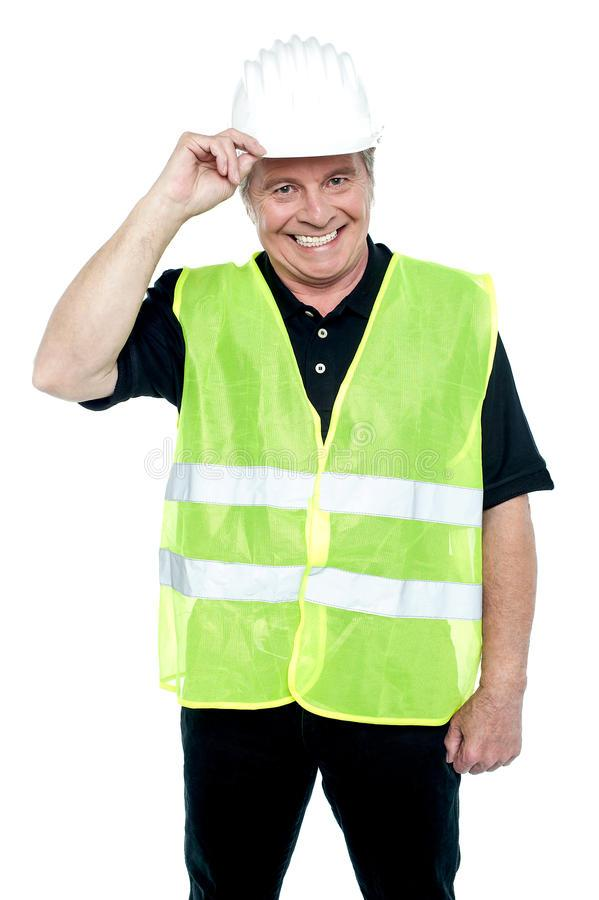helmet: (230, 36, 386, 164)
